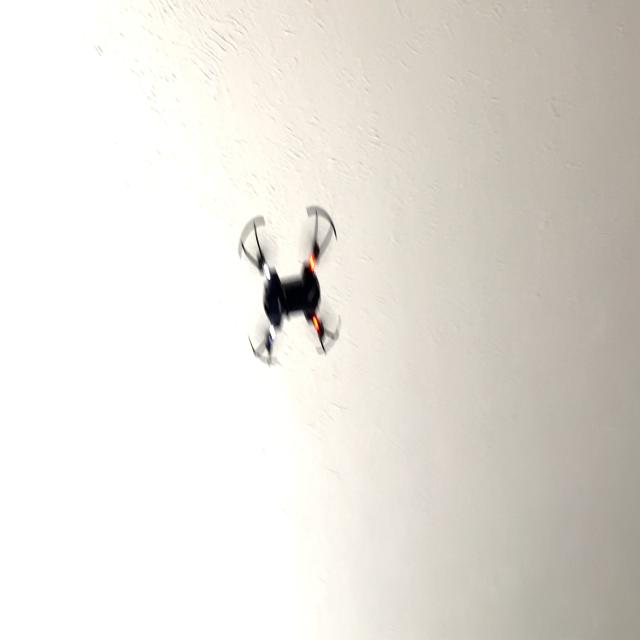drone: (232, 194, 352, 381)
